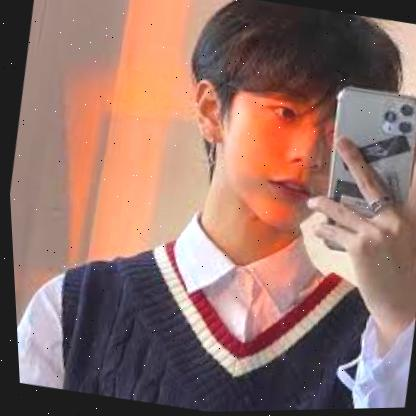person: (148, 0, 416, 248)
